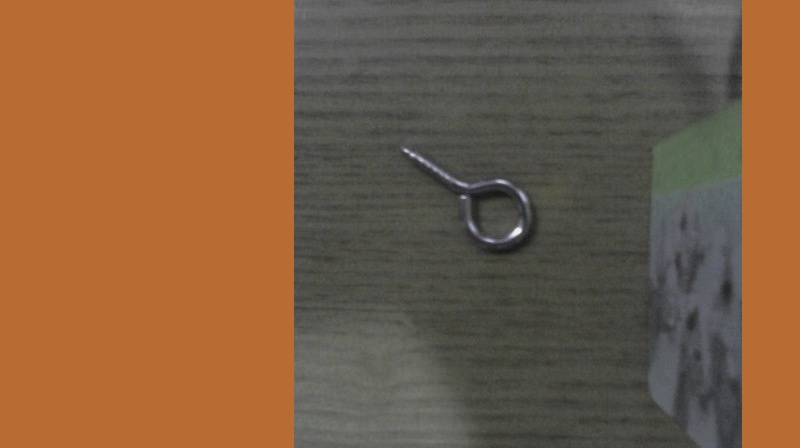O001: (393, 136, 538, 255)
